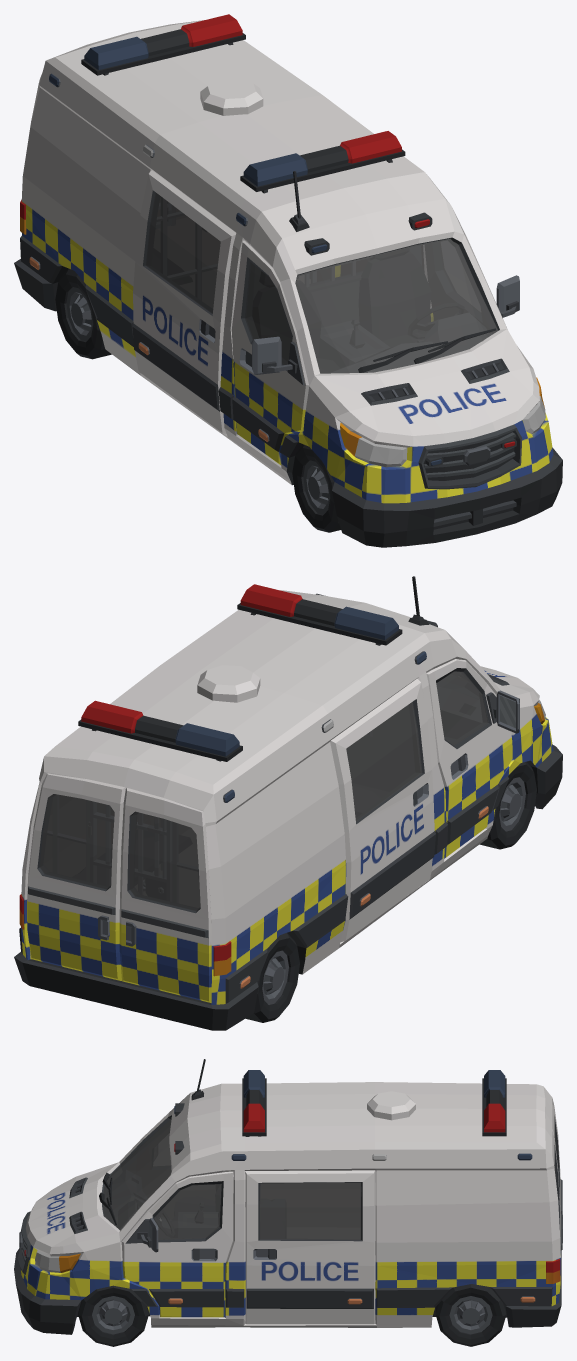
The model's file is SM_Veh_Van_01.fbx.
The picture shows the model from 3 angles, top to bottom: view 1: azimuth 30°, elevation 25°; view 2: azimuth 150°, elevation 25°; view 3: azimuth 270°, elevation 25°; orthographic projection. The views are drawn at different scales.
Parts seen in each view (by area): view 1: SM_Veh_Van_01, SM_Veh_Van_01_Door_R_Glass, SM_Veh_Van_01_Door_FR_Glass, SM_Veh_Van_01_Door_FL_Glass; view 2: SM_Veh_Van_01, SM_Veh_Van_01_Door_RL_Glass, SM_Veh_Van_01_Door_RR_Glass, SM_Veh_Van_01_Door_R_Glass, SM_Veh_Van_01_Door_FR_Glass; view 3: SM_Veh_Van_01, SM_Veh_Van_01_Door_L_Glass, SM_Veh_Van_01_Door_FL_Glass, SM_Veh_Van_01_Door_FR_Glass.
Part boxes in pixels (x1,y1,x2,y2): SM_Veh_Van_01: [14, 14, 562, 547]; SM_Veh_Van_01_Door_R_Glass: [146, 193, 220, 313]; SM_Veh_Van_01_Door_FR_Glass: [245, 262, 292, 364]; SM_Veh_Van_01_Door_FL_Glass: [439, 241, 480, 311]; SM_Veh_Van_01: [14, 576, 562, 1030]; SM_Veh_Van_01_Door_RL_Glass: [40, 794, 114, 889]; SM_Veh_Van_01_Door_RR_Glass: [129, 812, 200, 911]; SM_Veh_Van_01_Door_R_Glass: [346, 702, 422, 821]; SM_Veh_Van_01_Door_FR_Glass: [436, 671, 488, 745]; SM_Veh_Van_01: [14, 1059, 562, 1346]; SM_Veh_Van_01_Door_L_Glass: [259, 1182, 361, 1239]; SM_Veh_Van_01_Door_FL_Glass: [154, 1183, 221, 1239]; SM_Veh_Van_01_Door_FR_Glass: [153, 1134, 170, 1165].
Size of the model in its own units: 274 by 299 by 647.
